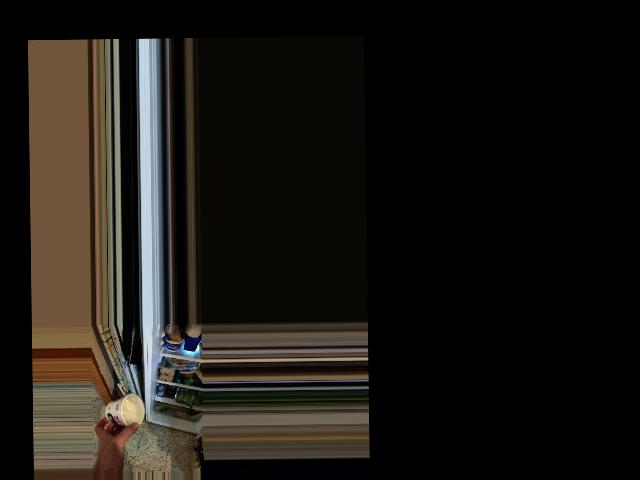cotage: (106, 395, 148, 427)
